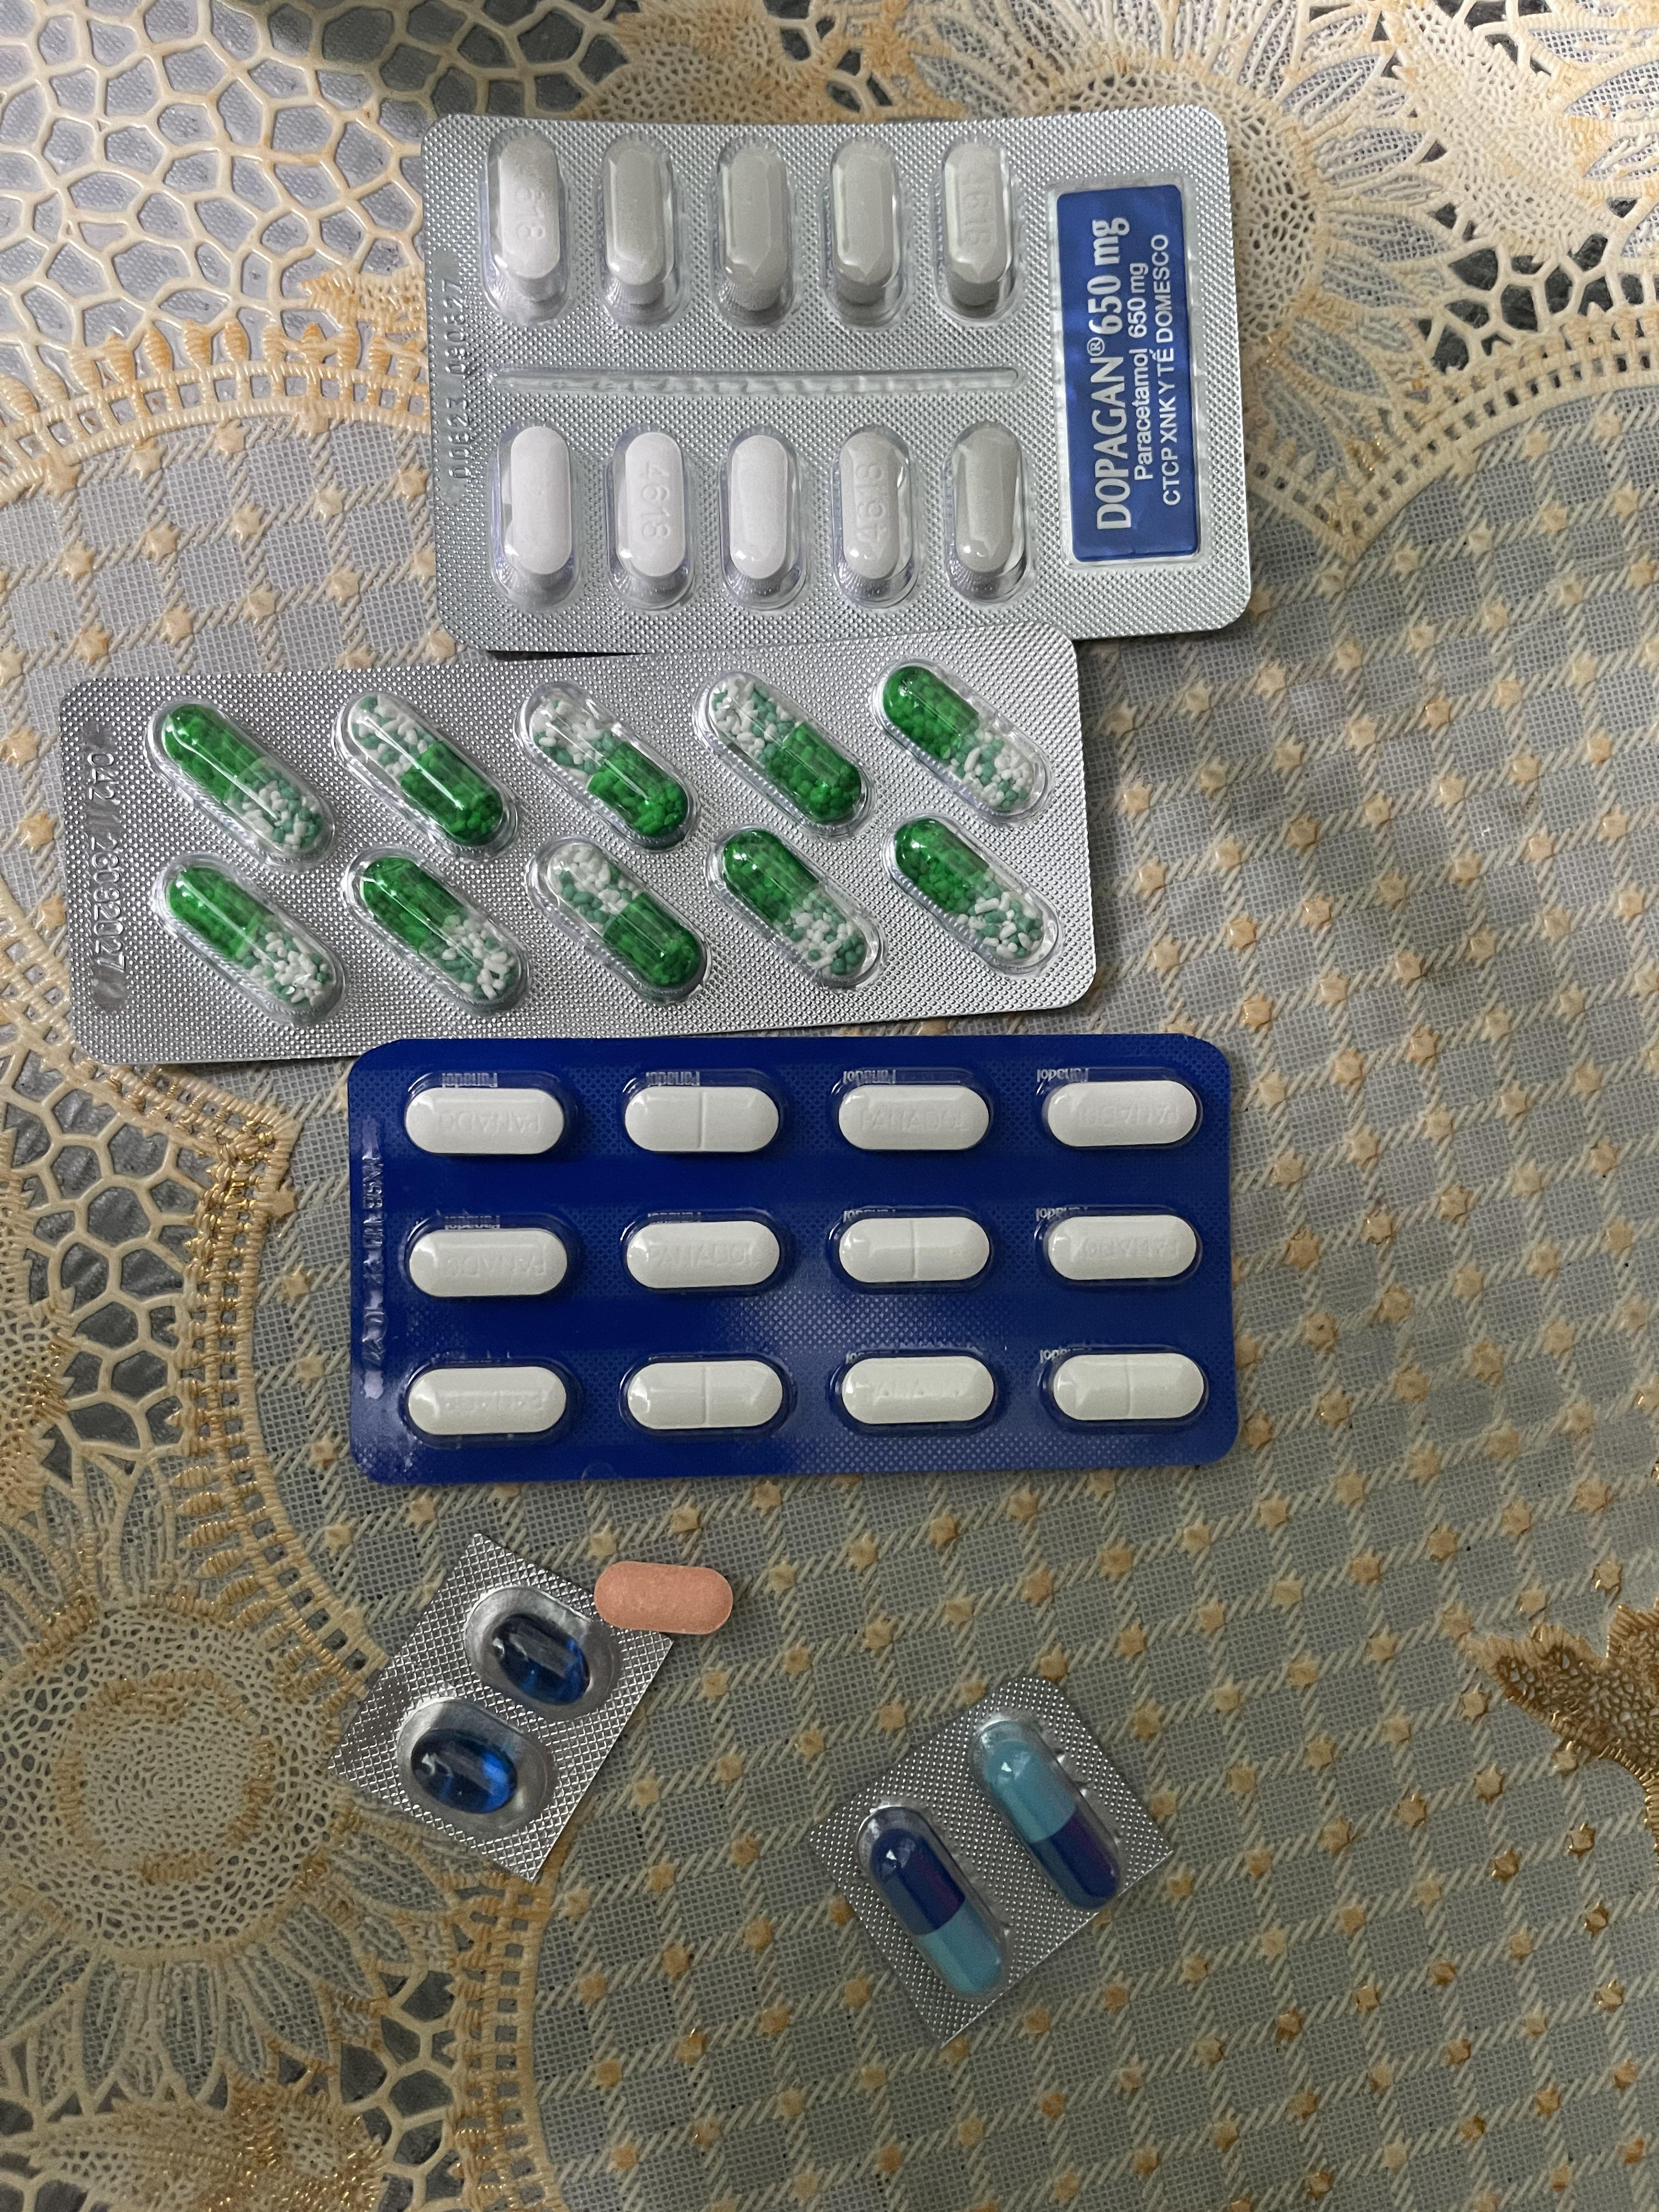Lincomyxin_500mg: (486, 1611, 587, 1707), (410, 1730, 519, 1815)
Loratadine_10mg: (592, 1561, 734, 1637)
Paracetamol_350mg: (404, 1362, 572, 1444), (833, 1352, 1000, 1430), (408, 1223, 573, 1301), (624, 1214, 789, 1292), (404, 1083, 573, 1160), (624, 1080, 784, 1157), (626, 1357, 789, 1432), (1049, 1350, 1204, 1425), (1046, 1212, 1201, 1284), (833, 1216, 988, 1287), (836, 1083, 993, 1153), (1044, 1080, 1199, 1150)
Paracetamol_500mg: (491, 420, 584, 610), (484, 131, 570, 322), (608, 428, 695, 610), (598, 134, 680, 326), (721, 425, 807, 608), (714, 138, 796, 327), (945, 421, 1030, 603), (833, 427, 915, 604), (828, 136, 903, 322), (941, 138, 1012, 319)
Paracetamol_650mg: (146, 697, 335, 869), (157, 855, 343, 1026), (335, 686, 512, 857), (525, 683, 701, 846), (894, 817, 1066, 977), (699, 672, 866, 831), (538, 845, 701, 989), (361, 857, 523, 1000), (884, 669, 1037, 812), (721, 833, 870, 979)
pill: (972, 1719, 1122, 1907), (863, 1808, 1009, 1994)
